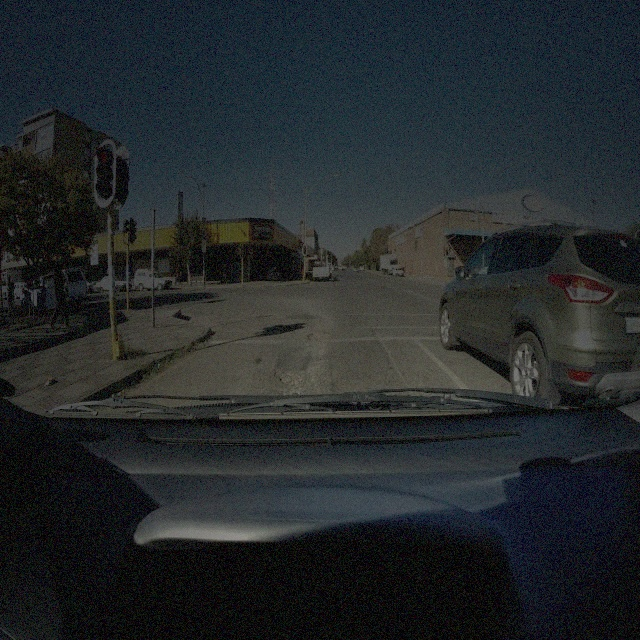pothole: (307, 331, 332, 342)
